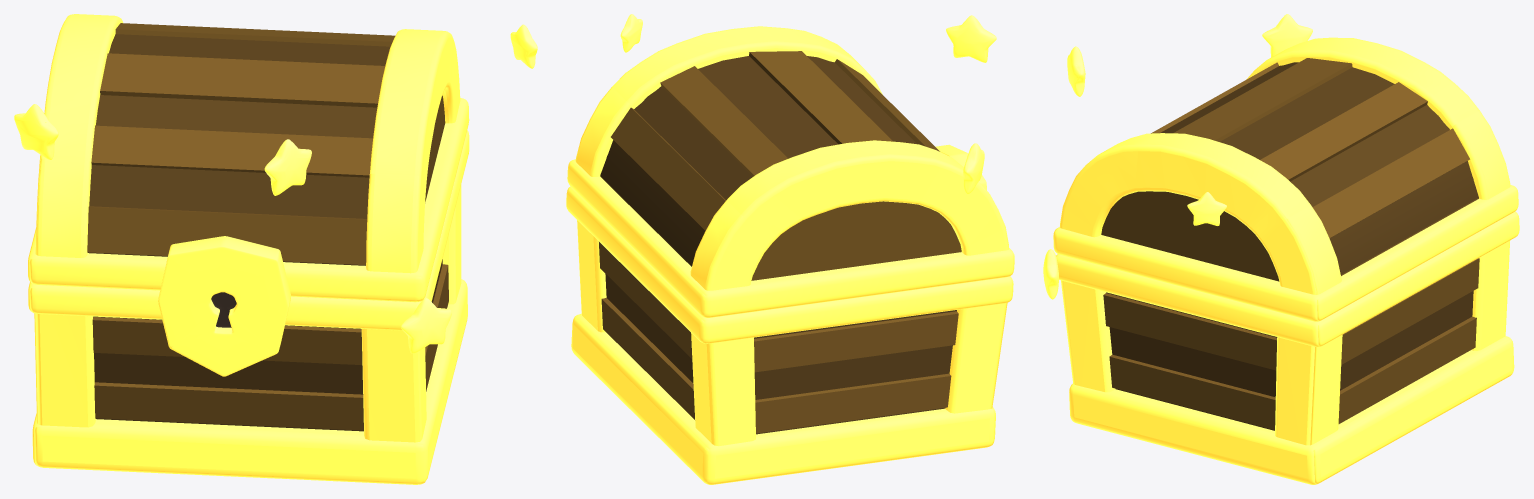
Rendered from antarcticachest3.glb.
The picture shows the model from 3 angles, left to right: view 1: azimuth 30°, elevation 25°; view 2: azimuth 150°, elevation 25°; view 3: azimuth 270°, elevation 25°; orthographic projection. The views are drawn at different scales.
Visible parts, largest first — view 1: Box004.001; view 2: Box004.001; view 3: Box004.001.
Part boxes in pixels (x1=…): Box004.001: x1=14, y1=14, x2=537, y2=484; Box004.001: x1=566, y1=14, x2=1014, y2=484; Box004.001: x1=1043, y1=14, x2=1519, y2=484.
Bounding box in the file's own units: 0.0211 × 0.0161 × 0.0215.
